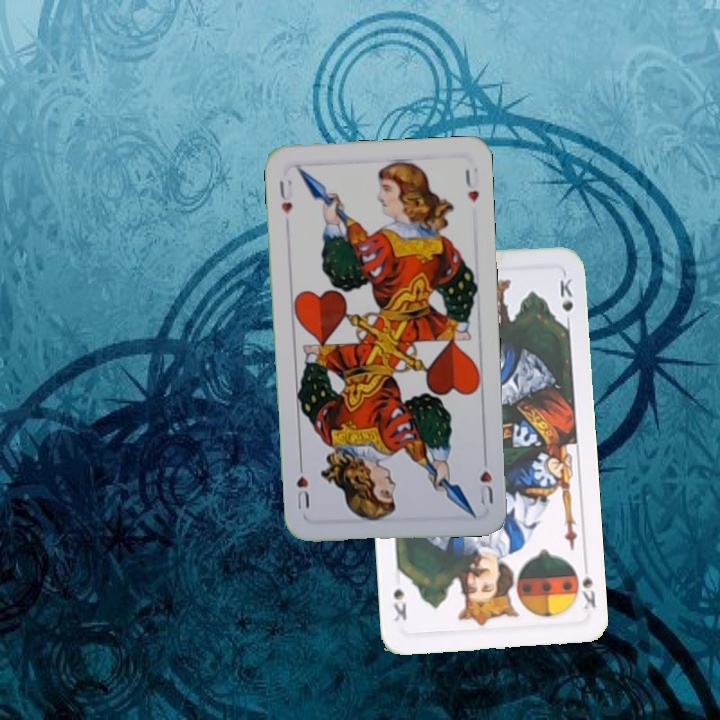HU: (474, 450, 496, 509), (275, 175, 295, 217)
SK: (577, 571, 599, 612)
